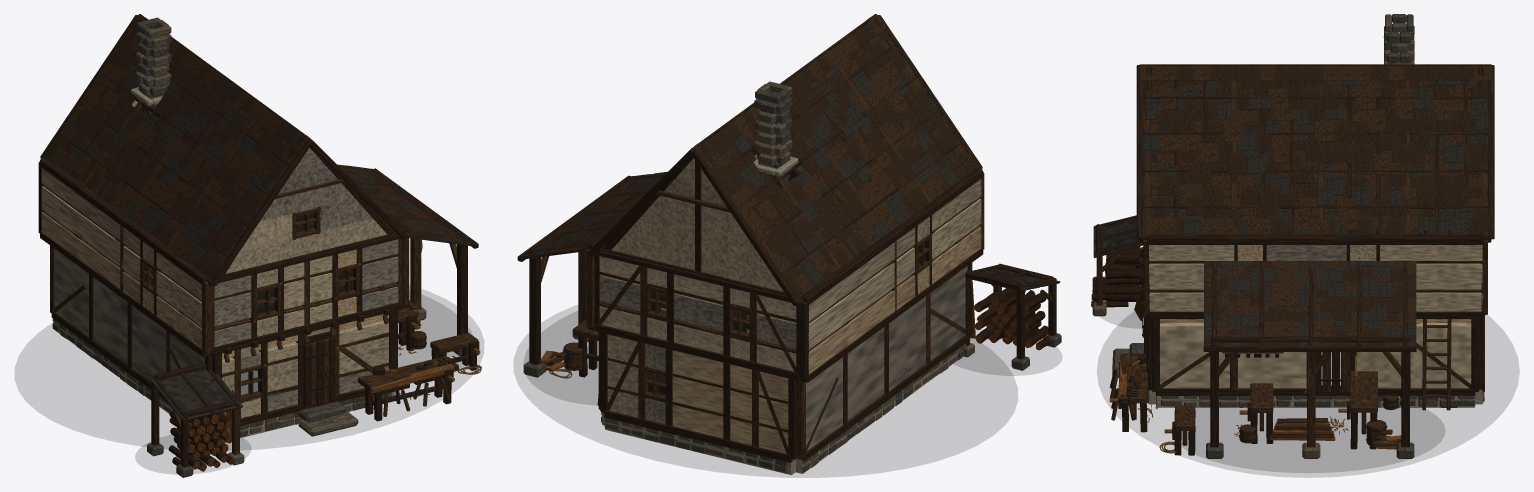
Rendered from medieval_carpenter_house_3d_runtime.glb.
3 renders of one model, left to right at view 1: azimuth 30°, elevation 25°; view 2: azimuth 150°, elevation 25°; view 3: azimuth 270°, elevation 25°, orthographic. The views are drawn at different scales.
Visible parts, largest first — view 1: RUNTIME_BATCH_033_MAT_SHINGLE_WEATHERED_A, RUNTIME_BATCH_088_MAT_GROUND_SHADOW_ALPHA, RUNTIME_BATCH_034_MAT_SHINGLE_WEATHERED_B, RUNTIME_BATCH_011_MAT_LIME_CLAY_INFILL_SMOKED, RUNTIME_BATCH_032_MAT_SHINGLE_WEATHERED_C, RUNTIME_BATCH_031_MAT_OAK_HANDHEWN_DARK, RUNTIME_BATCH_007_MAT_OAK_HANDHEWN_DARK, RUNTIME_BATCH_073_MAT_LIME_CLAY_INFILL_SMOKED, RUNTIME_BATCH_055_MAT_OAK_HANDHEWN_DARK, RUNTIME_BATCH_082_MAT_OAK_HANDHEWN_DARK, RUNTIME_BATCH_079_MAT_LIME_CLAY_INFILL_SMOKED, RUNTIME_BATCH_013_MAT_LIME_CLAY_INFILL (+39 smaller); view 2: RUNTIME_BATCH_088_MAT_GROUND_SHADOW_ALPHA, RUNTIME_BATCH_033_MAT_SHINGLE_WEATHERED_A, RUNTIME_BATCH_011_MAT_LIME_CLAY_INFILL_SMOKED, RUNTIME_BATCH_013_MAT_LIME_CLAY_INFILL, RUNTIME_BATCH_034_MAT_SHINGLE_WEATHERED_B, RUNTIME_BATCH_007_MAT_OAK_HANDHEWN_DARK, REAR_GABLE_INFILL, RUNTIME_BATCH_005_MAT_OAK_HANDHEWN_DARK, RUNTIME_BATCH_032_MAT_SHINGLE_WEATHERED_C, RUNTIME_BATCH_010_MAT_LIME_CLAY_INFILL_WARM, RUNTIME_BATCH_031_MAT_OAK_HANDHEWN_DARK, RUNTIME_BATCH_008_MAT_OAK_HANDHEWN_MID (+23 smaller); view 3: RUNTIME_BATCH_033_MAT_SHINGLE_WEATHERED_A, RUNTIME_BATCH_088_MAT_GROUND_SHADOW_ALPHA, RUNTIME_BATCH_034_MAT_SHINGLE_WEATHERED_B, RUNTIME_BATCH_032_MAT_SHINGLE_WEATHERED_C, RUNTIME_BATCH_071_MAT_LIME_CLAY_INFILL, RUNTIME_BATCH_075_MAT_LIME_CLAY_INFILL, RUNTIME_BATCH_031_MAT_OAK_HANDHEWN_DARK, RUNTIME_BATCH_047_MAT_SHINGLE_WEATHERED_C, RUNTIME_BATCH_048_MAT_SHINGLE_WEATHERED_A, RUNTIME_BATCH_082_MAT_OAK_HANDHEWN_DARK, RUNTIME_BATCH_049_MAT_SHINGLE_WEATHERED_B, RUNTIME_BATCH_050_MAT_OAK_HANDHEWN_MID (+21 smaller).
Part boxes in pixels (x1,y1,x2,y2): RUNTIME_BATCH_033_MAT_SHINGLE_WEATHERED_A: (44,15,308,282); RUNTIME_BATCH_088_MAT_GROUND_SHADOW_ALPHA: (15,289,483,473); RUNTIME_BATCH_034_MAT_SHINGLE_WEATHERED_B: (51,14,311,258); RUNTIME_BATCH_011_MAT_LIME_CLAY_INFILL_SMOKED: (54,248,204,382); RUNTIME_BATCH_032_MAT_SHINGLE_WEATHERED_C: (62,16,392,265); RUNTIME_BATCH_031_MAT_OAK_HANDHEWN_DARK: (40,14,407,286); RUNTIME_BATCH_007_MAT_OAK_HANDHEWN_DARK: (38,158,352,357); RUNTIME_BATCH_073_MAT_LIME_CLAY_INFILL_SMOKED: (214,222,398,346); RUNTIME_BATCH_055_MAT_OAK_HANDHEWN_DARK: (151,340,479,467); RUNTIME_BATCH_082_MAT_OAK_HANDHEWN_DARK: (210,212,408,355); RUNTIME_BATCH_079_MAT_LIME_CLAY_INFILL_SMOKED: (260,147,372,231); RUNTIME_BATCH_013_MAT_LIME_CLAY_INFILL: (41,186,202,326); RUNTIME_BATCH_088_MAT_GROUND_SHADOW_ALPHA: (514,305,1061,477); RUNTIME_BATCH_033_MAT_SHINGLE_WEATHERED_A: (694,17,979,299); RUNTIME_BATCH_011_MAT_LIME_CLAY_INFILL_SMOKED: (645,266,967,450); RUNTIME_BATCH_013_MAT_LIME_CLAY_INFILL: (599,199,981,371); RUNTIME_BATCH_034_MAT_SHINGLE_WEATHERED_B: (691,14,948,293); RUNTIME_BATCH_007_MAT_OAK_HANDHEWN_DARK: (594,168,983,382); REAR_GABLE_INFILL: (611,158,783,291); RUNTIME_BATCH_005_MAT_OAK_HANDHEWN_DARK: (600,263,972,462); RUNTIME_BATCH_032_MAT_SHINGLE_WEATHERED_C: (605,35,965,284); RUNTIME_BATCH_010_MAT_LIME_CLAY_INFILL_WARM: (672,350,788,453); RUNTIME_BATCH_031_MAT_OAK_HANDHEWN_DARK: (588,14,982,306); RUNTIME_BATCH_008_MAT_OAK_HANDHEWN_MID: (599,172,984,372); RUNTIME_BATCH_033_MAT_SHINGLE_WEATHERED_A: (1143,64,1491,236); RUNTIME_BATCH_088_MAT_GROUND_SHADOW_ALPHA: (1097,302,1519,477); RUNTIME_BATCH_034_MAT_SHINGLE_WEATHERED_B: (1139,64,1491,238); RUNTIME_BATCH_032_MAT_SHINGLE_WEATHERED_C: (1143,65,1491,239); RUNTIME_BATCH_071_MAT_LIME_CLAY_INFILL: (1160,323,1471,388); RUNTIME_BATCH_075_MAT_LIME_CLAY_INFILL: (1149,245,1482,311); RUNTIME_BATCH_031_MAT_OAK_HANDHEWN_DARK: (1136,65,1494,242); RUNTIME_BATCH_047_MAT_SHINGLE_WEATHERED_C: (1204,261,1416,348); RUNTIME_BATCH_048_MAT_SHINGLE_WEATHERED_A: (1204,261,1415,346); RUNTIME_BATCH_082_MAT_OAK_HANDHEWN_DARK: (1140,234,1484,318); RUNTIME_BATCH_049_MAT_SHINGLE_WEATHERED_B: (1204,261,1415,346); RUNTIME_BATCH_050_MAT_OAK_HANDHEWN_MID: (1222,352,1401,446).
Bounding box in the file's own units: 13.6 × 9.9 × 11.55.
Materials: 21 (21 with a texture image).
